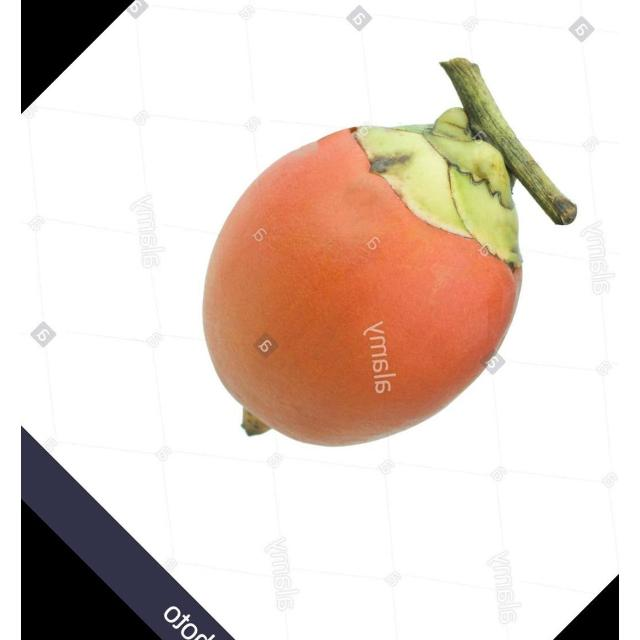good: (201, 109, 523, 449)
